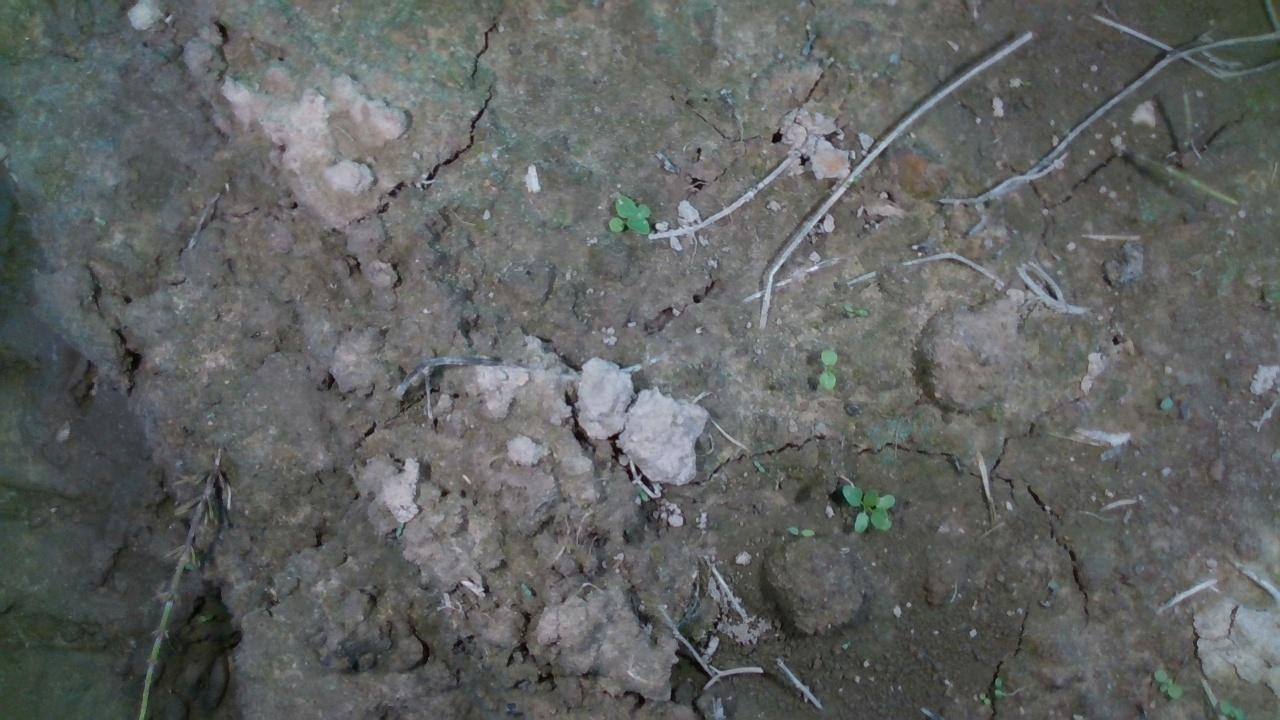weed: (840, 483, 894, 533), (605, 192, 651, 234), (1152, 667, 1182, 699), (819, 346, 837, 390), (842, 302, 868, 317), (785, 524, 816, 536)
